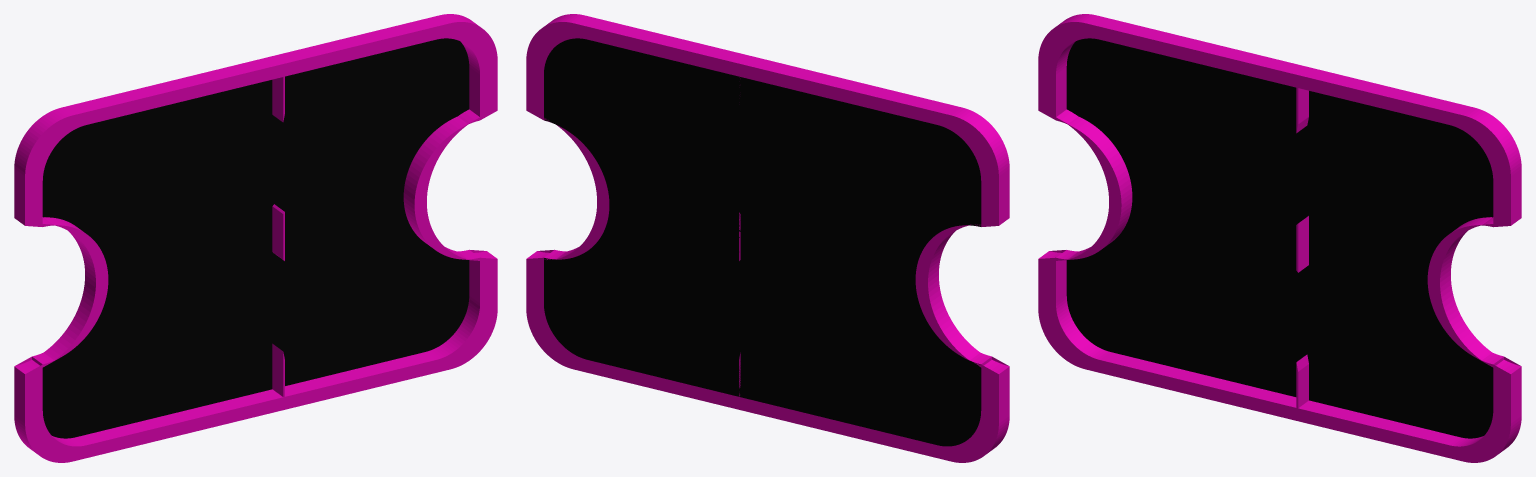
Rendered from ticket.glb.
The picture shows the model from 3 angles, left to right: view 1: azimuth 30°, elevation 25°; view 2: azimuth 150°, elevation 25°; view 3: azimuth 330°, elevation 25°; orthographic projection.
Parts seen in each view (by area): view 1: Curve, Curve.003, Curve.002, Curve.001; view 2: Curve; view 3: Curve, Curve.003, Curve.002, Curve.001.
Boxes of the visible parts, <box> form: Curve: <box>14,14,497,462</box>; Curve.003: <box>272,204,284,260</box>; Curve.002: <box>272,343,284,397</box>; Curve.001: <box>272,70,284,122</box>; Curve: <box>526,14,1009,462</box>; Curve: <box>1038,14,1521,462</box>; Curve.003: <box>1296,216,1308,272</box>; Curve.002: <box>1296,354,1308,408</box>; Curve.001: <box>1296,75,1308,133</box>.
Size of the model in its own units: 11.54 by 8.08 by 0.4587.
